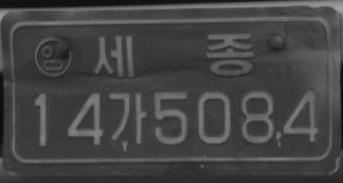0: (197, 90, 232, 144)
1: (28, 92, 55, 146)
4: (66, 91, 104, 146), (282, 89, 320, 143)
5: (152, 89, 188, 145)
8: (240, 89, 274, 144)
가: (107, 90, 147, 144)
세종_D: (92, 31, 254, 79)
영: (33, 36, 73, 79)
